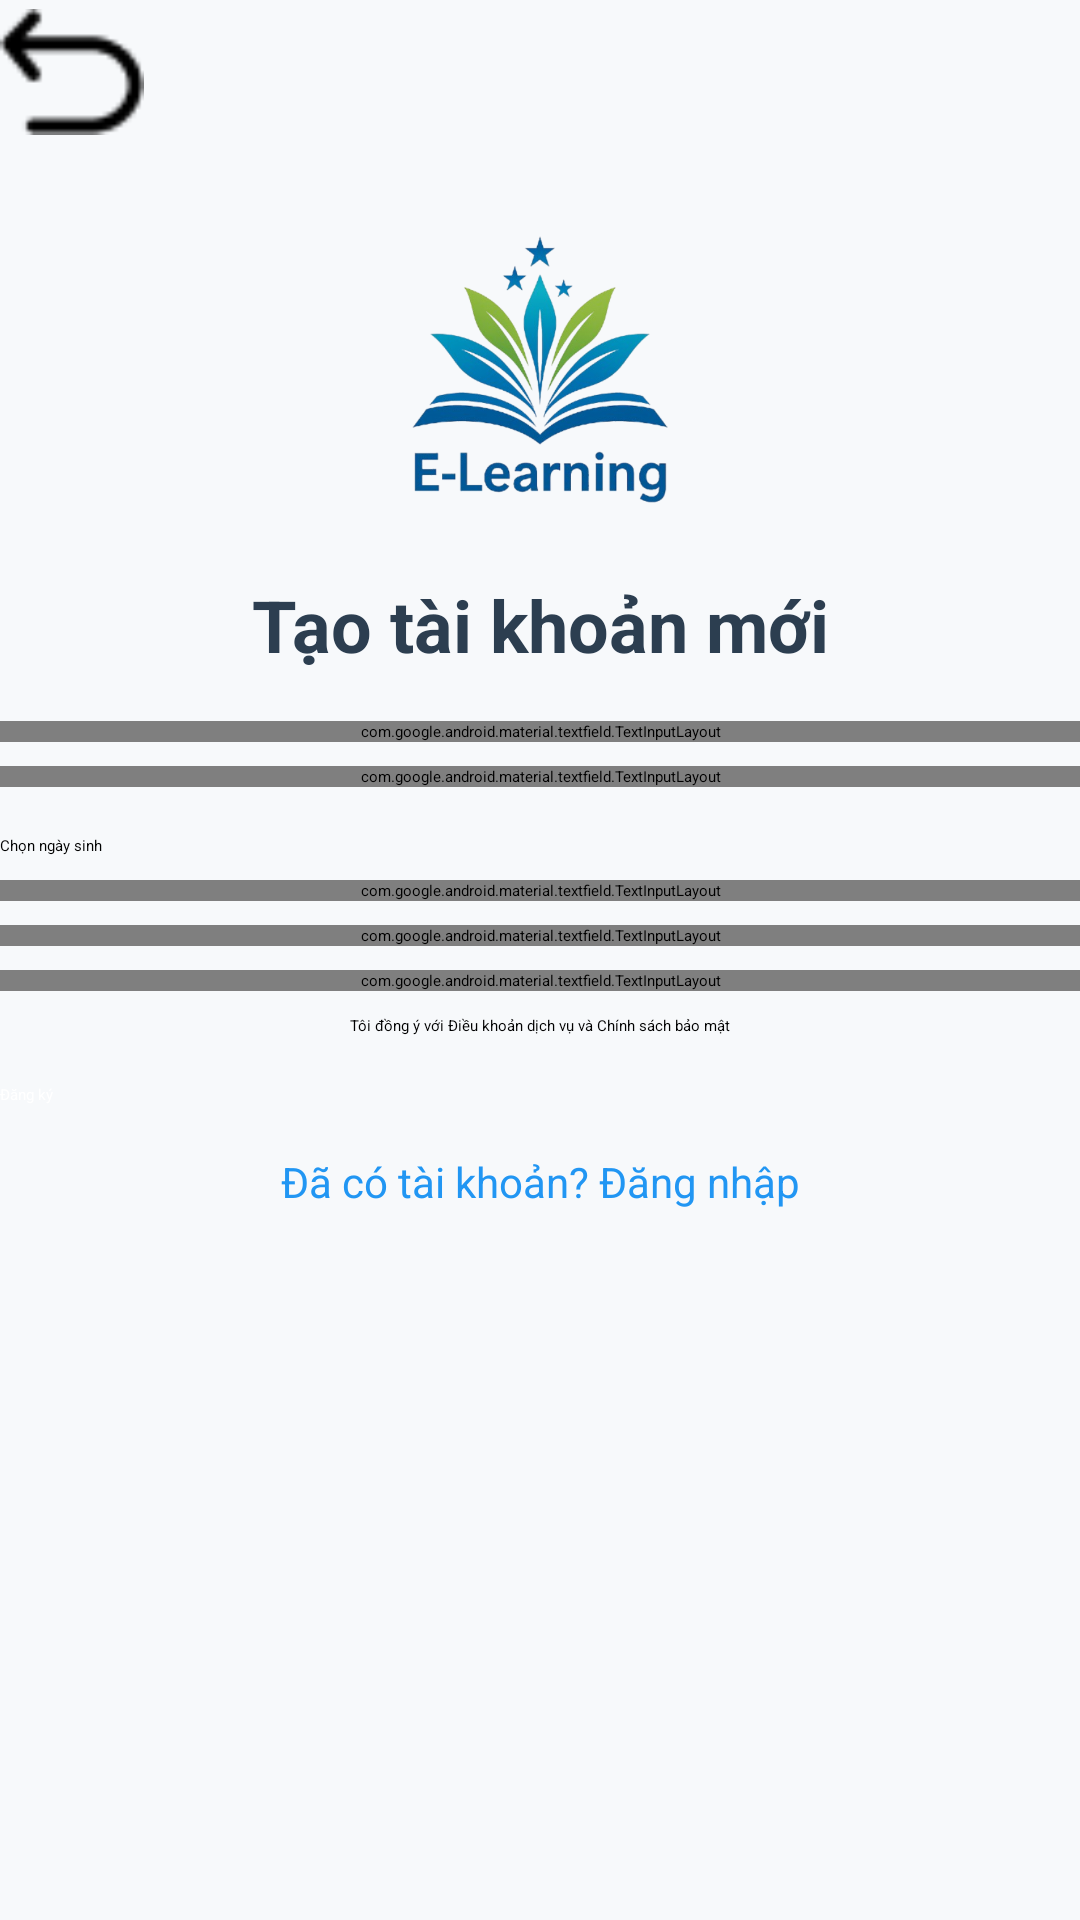

Screen size 1080px x 1920px. Icon name, then its box in pixels as box=[x1, y1, x2, y2]:
Return button: box=[0, 9, 144, 135]
